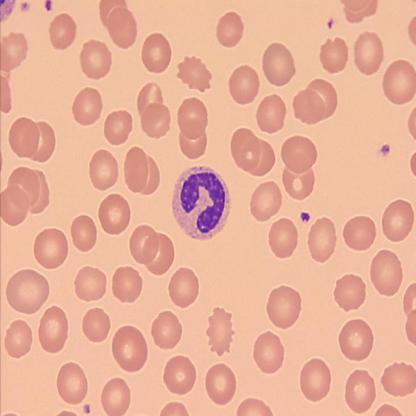Band Neutrophil: (170, 163, 233, 243)
